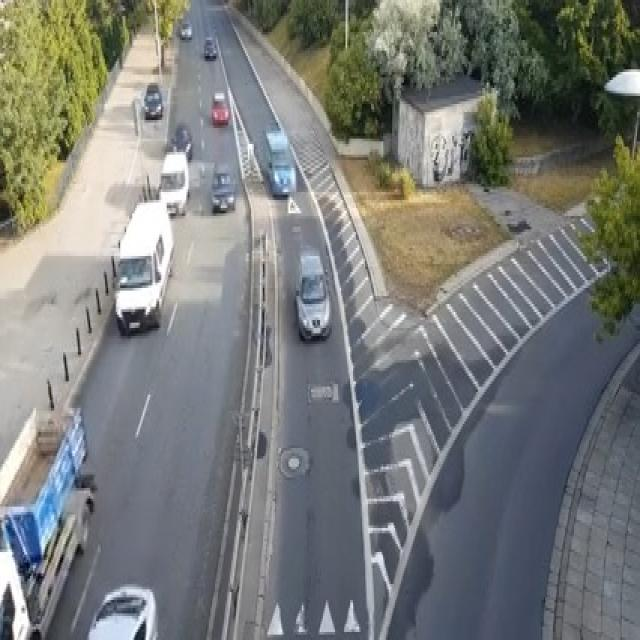car: (82, 584, 158, 637), (294, 248, 330, 341), (210, 165, 234, 211), (170, 123, 192, 160), (143, 83, 162, 117), (210, 91, 228, 125), (203, 34, 216, 59), (179, 19, 192, 37)
truck: (110, 197, 174, 336)
